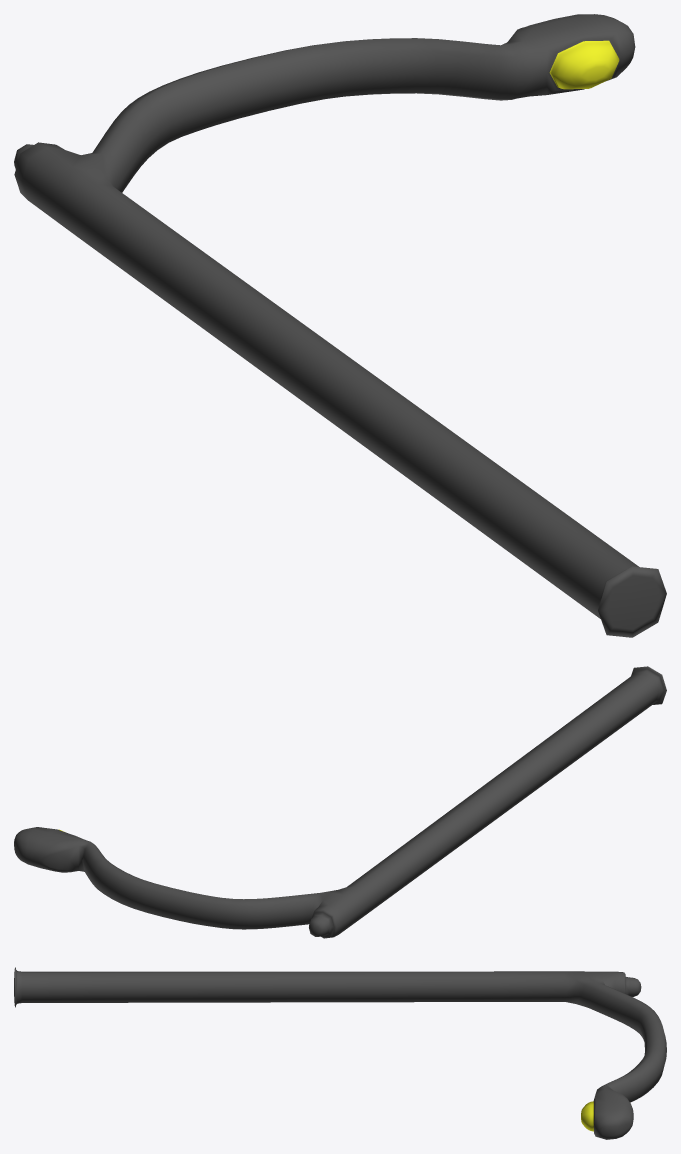
Rendered from LightStreet3.FBX.
3 views of the same model, one above another, from view 1: azimuth 30°, elevation 25°; view 2: azimuth 150°, elevation 25°; view 3: azimuth 270°, elevation 25° (orthographic). The views are drawn at different scales.
Visible parts, largest first — view 1: Box010; view 2: Box010; view 3: Box010.
Part boxes in pixels (<box>): Box010: <box>14,14,666,637</box>; Box010: <box>14,666,666,938</box>; Box010: <box>14,967,666,1139</box>.
Bounding box in the file's own units: 42.72 × 4.79 × 77.2.
